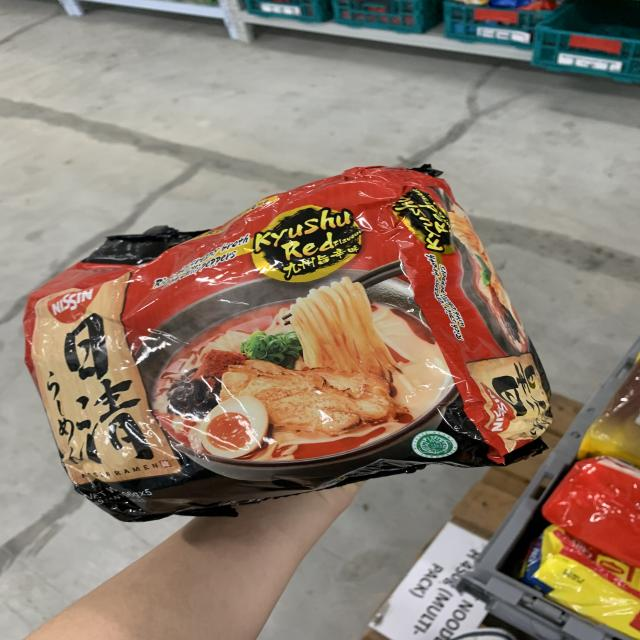object_name: (38, 232, 533, 478)
